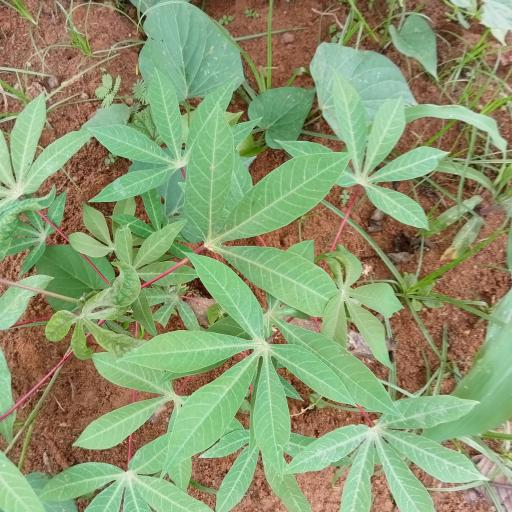Cassava_Mosaic: (130, 255, 354, 461), (303, 395, 486, 512), (48, 436, 230, 512), (0, 100, 92, 221)
